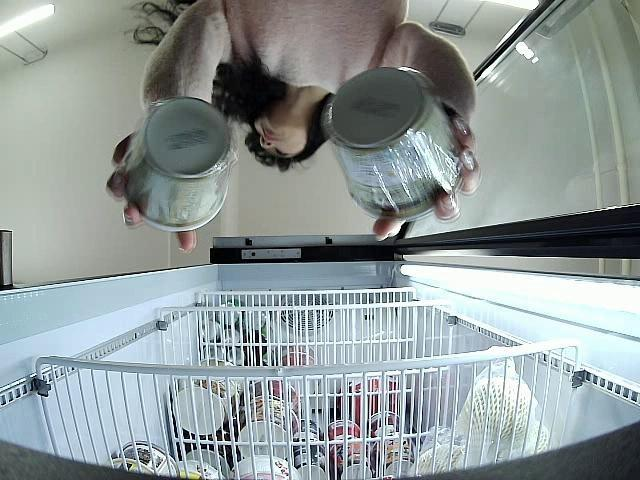04_chapagetti_S: (323, 65, 462, 216), (118, 97, 232, 230)
